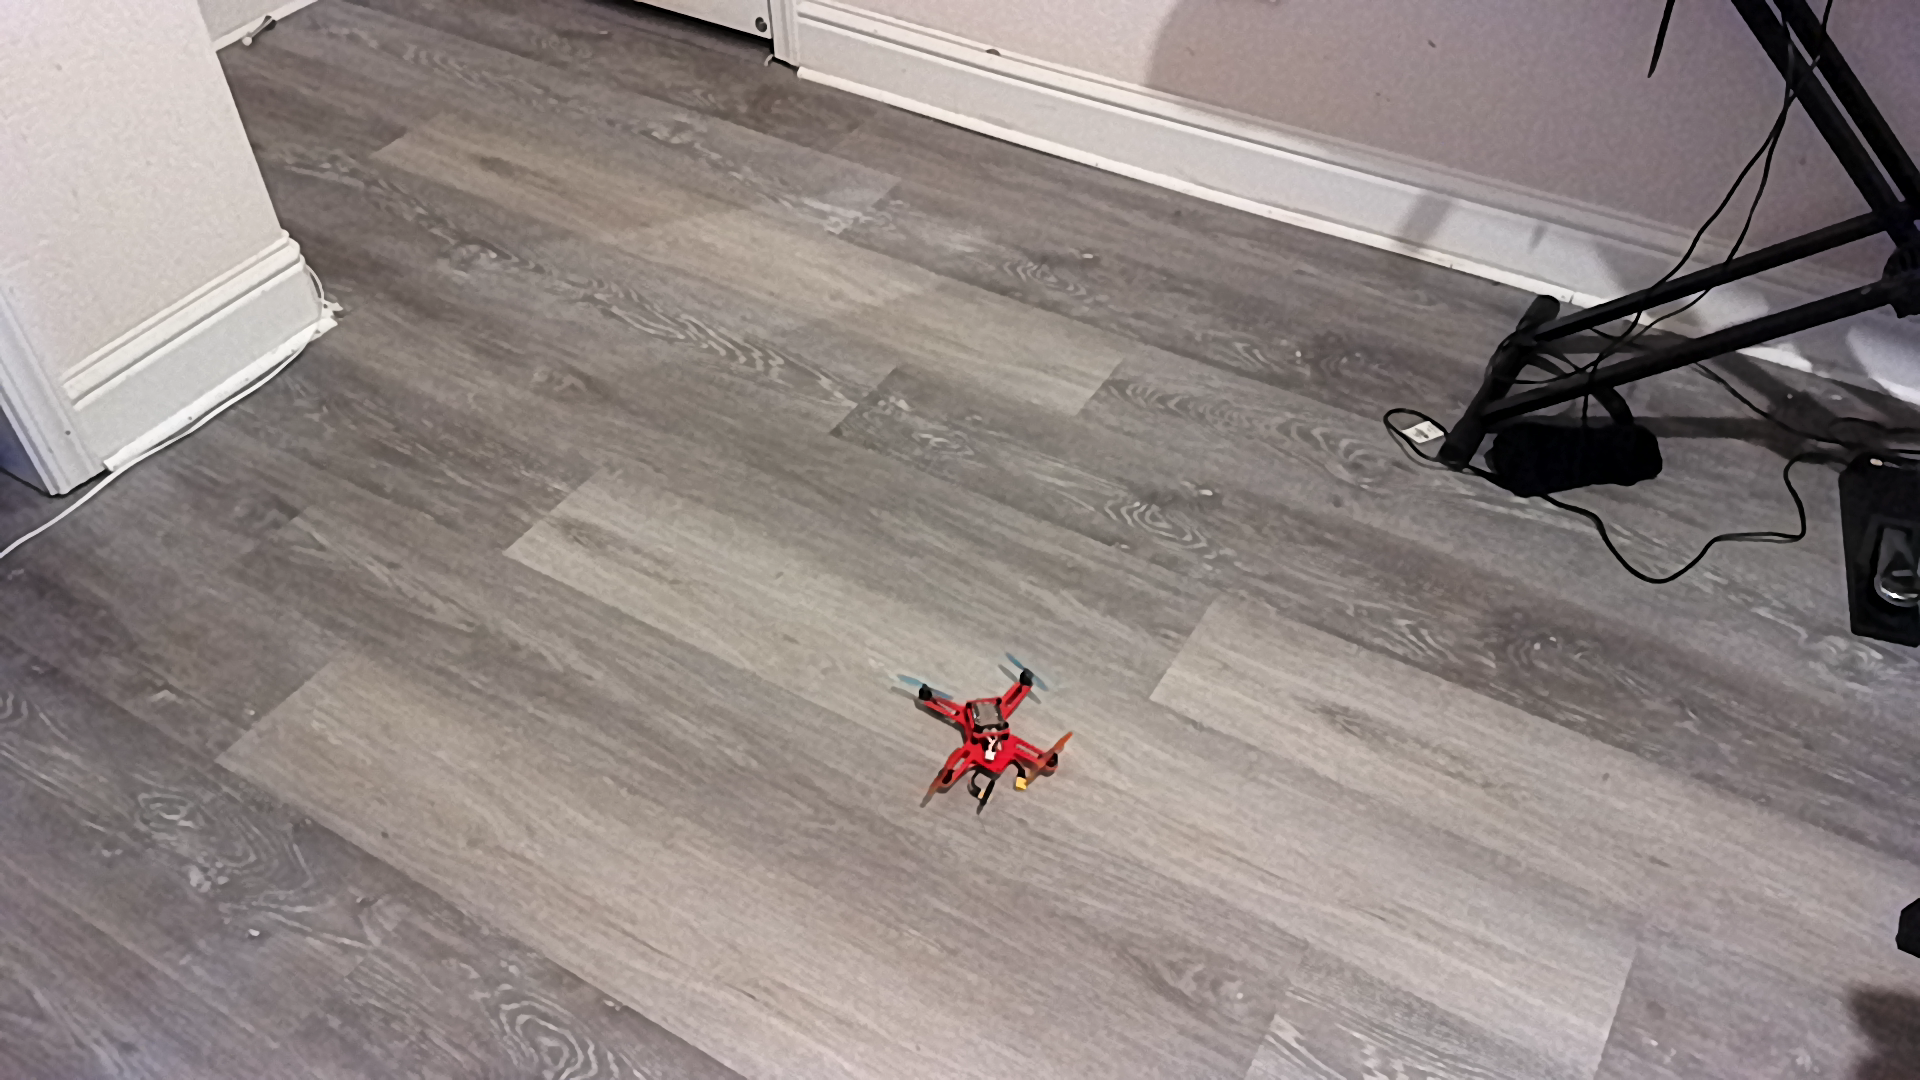drone: (884, 638, 1101, 818)
